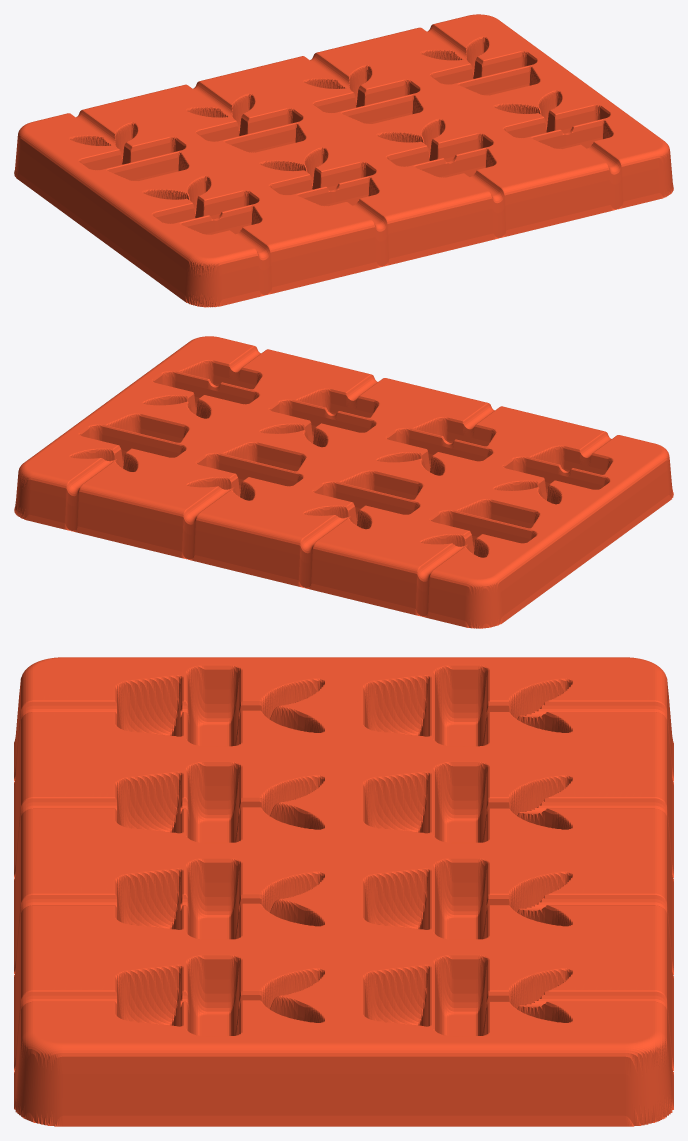
Rendered from mold.glb.
The picture shows the model from 3 angles, top to bottom: view 1: azimuth 30°, elevation 25°; view 2: azimuth 150°, elevation 25°; view 3: azimuth 270°, elevation 25°; orthographic projection. The views are drawn at different scales.
Parts seen in each view (by area): view 1: geometry_0; view 2: geometry_0; view 3: geometry_0.
Boxes of the visible parts, x1=… form: geometry_0: x1=14, y1=14, x2=673, y2=307; geometry_0: x1=14, y1=336, x2=673, y2=628; geometry_0: x1=14, y1=657, x2=673, y2=1126.
Bounding box in the file's own units: 0.1766 × 0.0155 × 0.1229.
